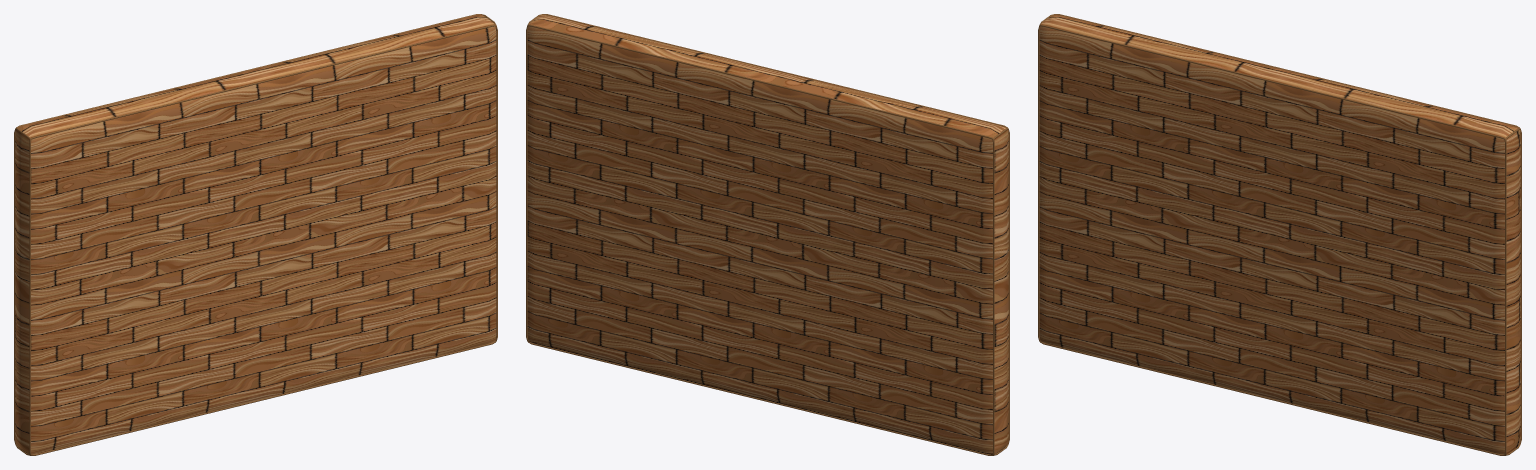
The model's file is SM_SoftFoam_Wall_20_2x3M.fbx.
3 views of the same model, side by side, from view 1: azimuth 30°, elevation 25°; view 2: azimuth 150°, elevation 25°; view 3: azimuth 330°, elevation 25° (orthographic).
Visible parts, largest first — view 1: SM_SoftFoam_Wall_20_2x3; view 2: SM_SoftFoam_Wall_20_2x3; view 3: SM_SoftFoam_Wall_20_2x3.
Part boxes in pixels (x1,y1,x2,y2): SM_SoftFoam_Wall_20_2x3: (14,14,497,455); SM_SoftFoam_Wall_20_2x3: (526,14,1009,455); SM_SoftFoam_Wall_20_2x3: (1038,14,1521,455).
Size of the model in its own units: 290 by 190 by 20.
